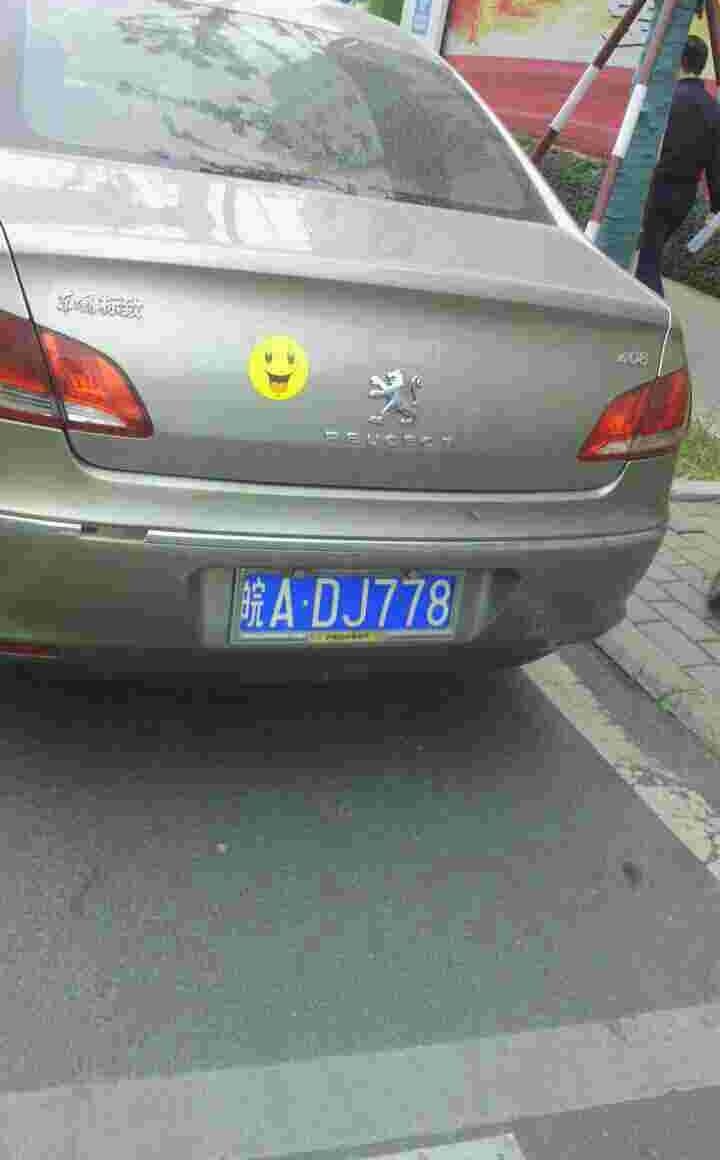license_plate: (243, 575, 464, 636)
